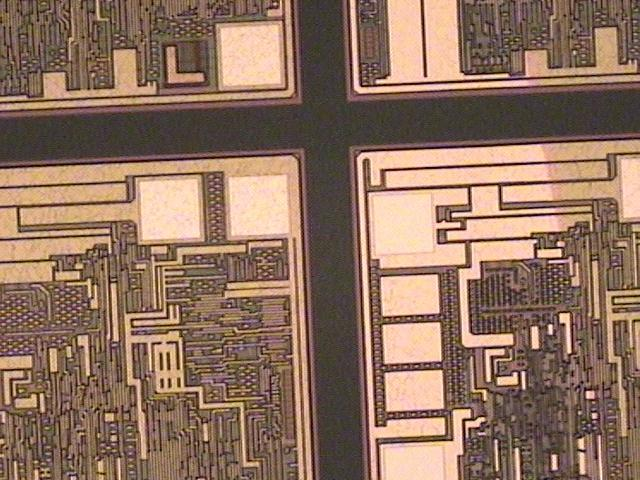COATING BAD: (335, 1, 619, 480)
